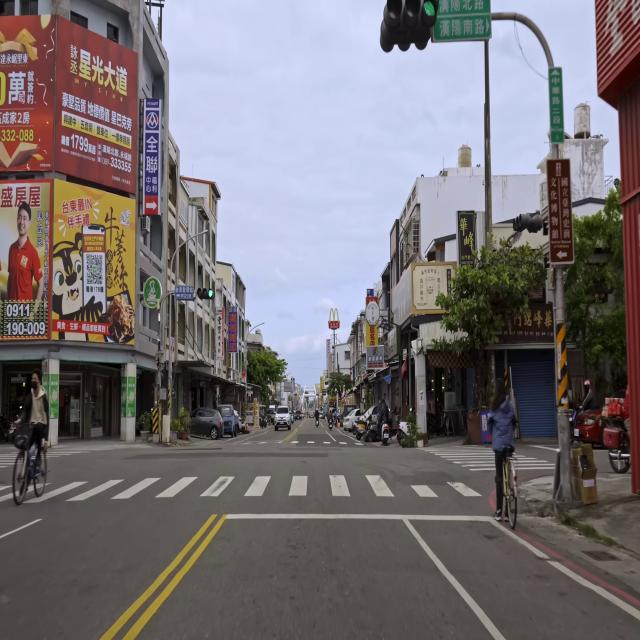green light: (379, 0, 441, 39), (197, 287, 213, 300)
